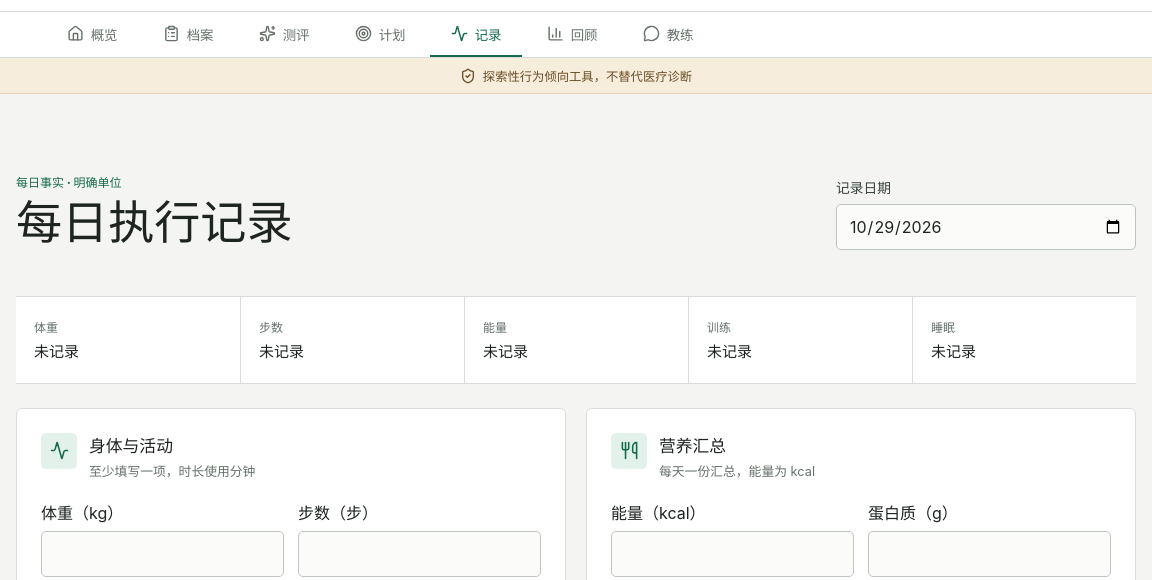
Test case: account experience › records explicit-unit daily facts and refreshes the selected-day summary
Expected: the heading "每日执行记录" is shown, [16,198,292,249]
Type "70.2" into the number field labelled "体重（kg）" at (162, 554), box [41,531,284,577]
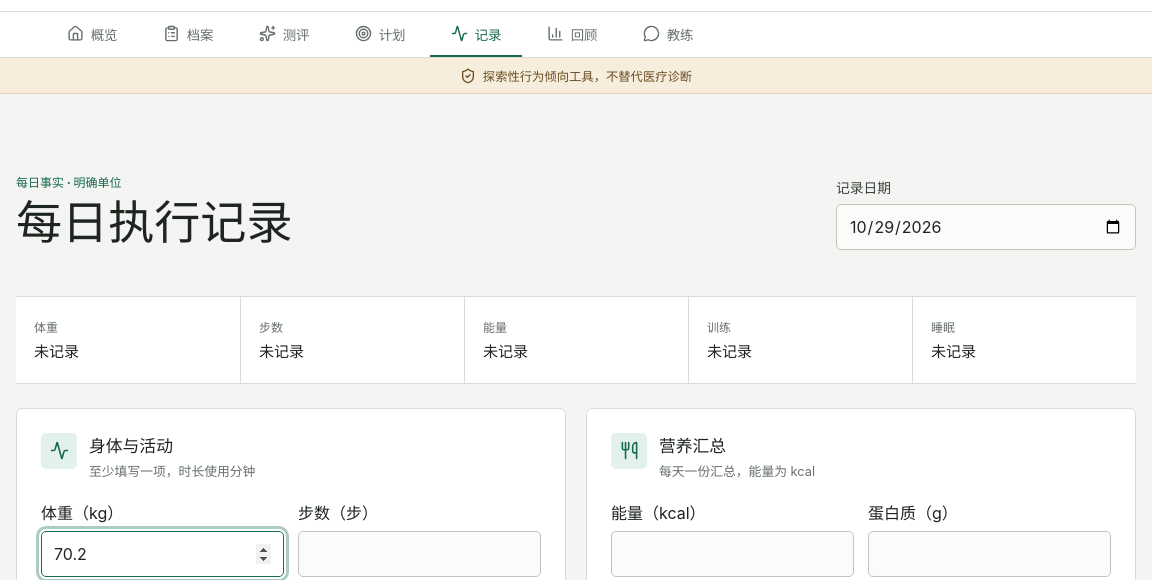
Type "8000" into the number field labelled "步数（步）" at (420, 554), box [298,531,541,577]
(page scrolled)
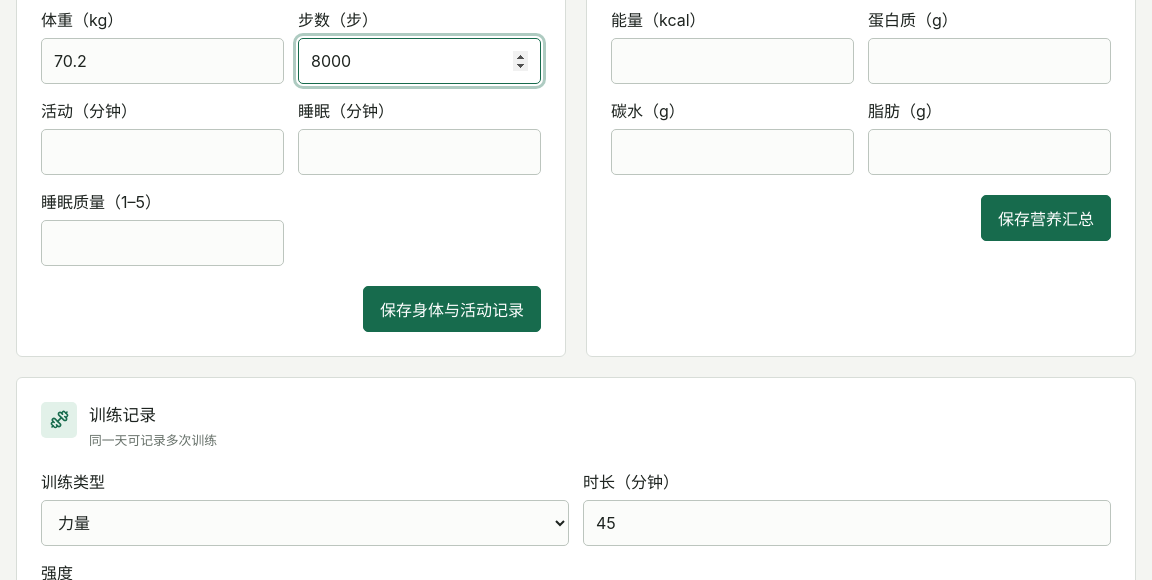
Click the button "保存身体与活动记录" at (452, 309), box [363,286,541,332]
(page scrolled)
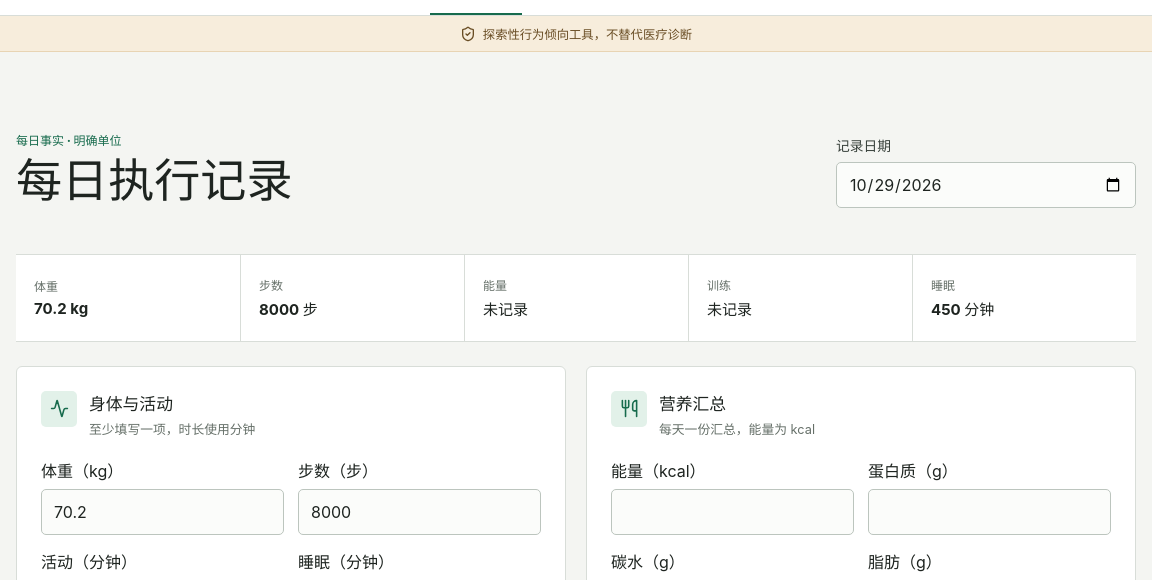
Now the text "70.2 kg" is shown, box [34,299,88,318]
